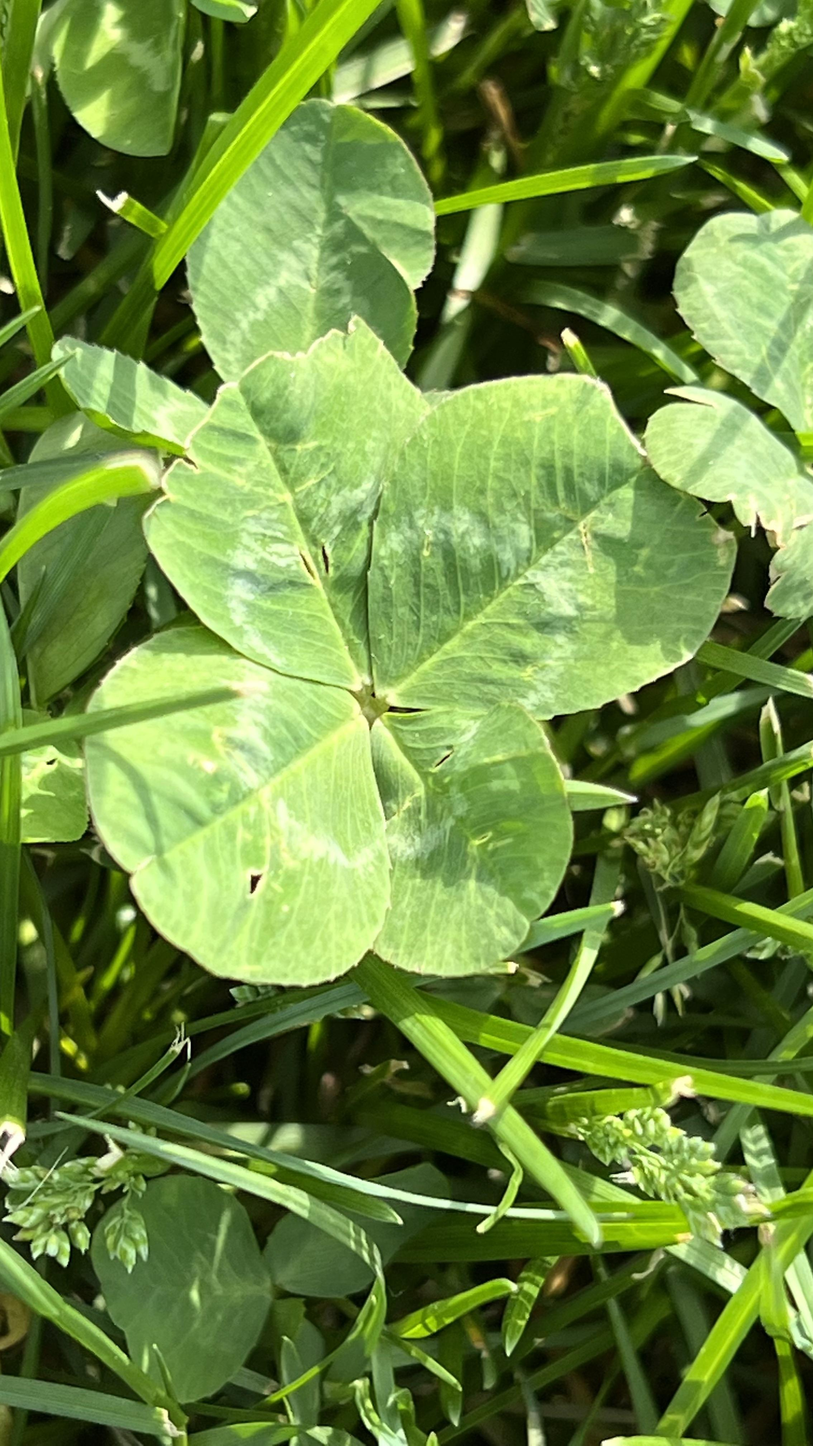4-Leaf-Clovers: (87, 326, 734, 989)
